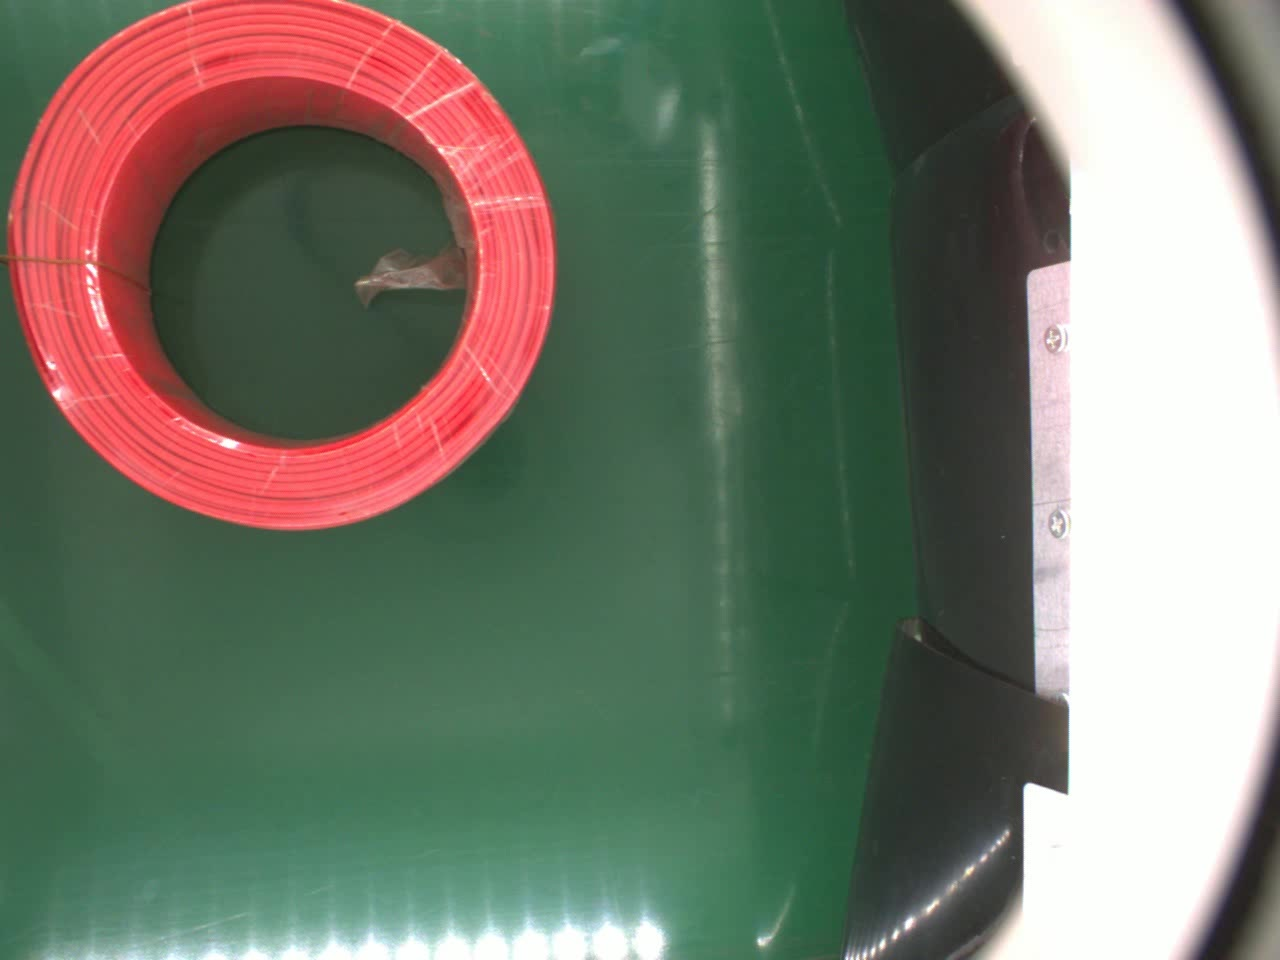red: (0, 0, 559, 534)
